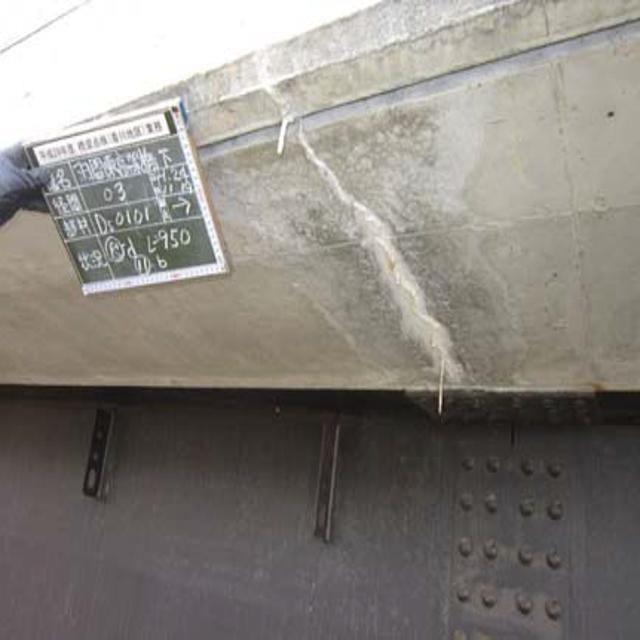freelime: (276, 111, 466, 390)
